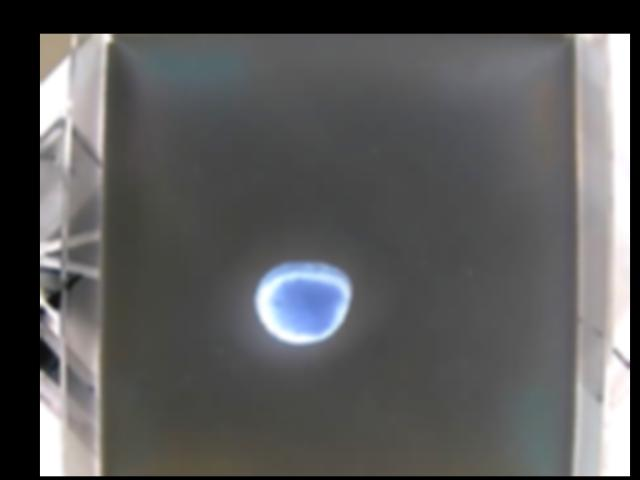Potato: (256, 258, 353, 346)
